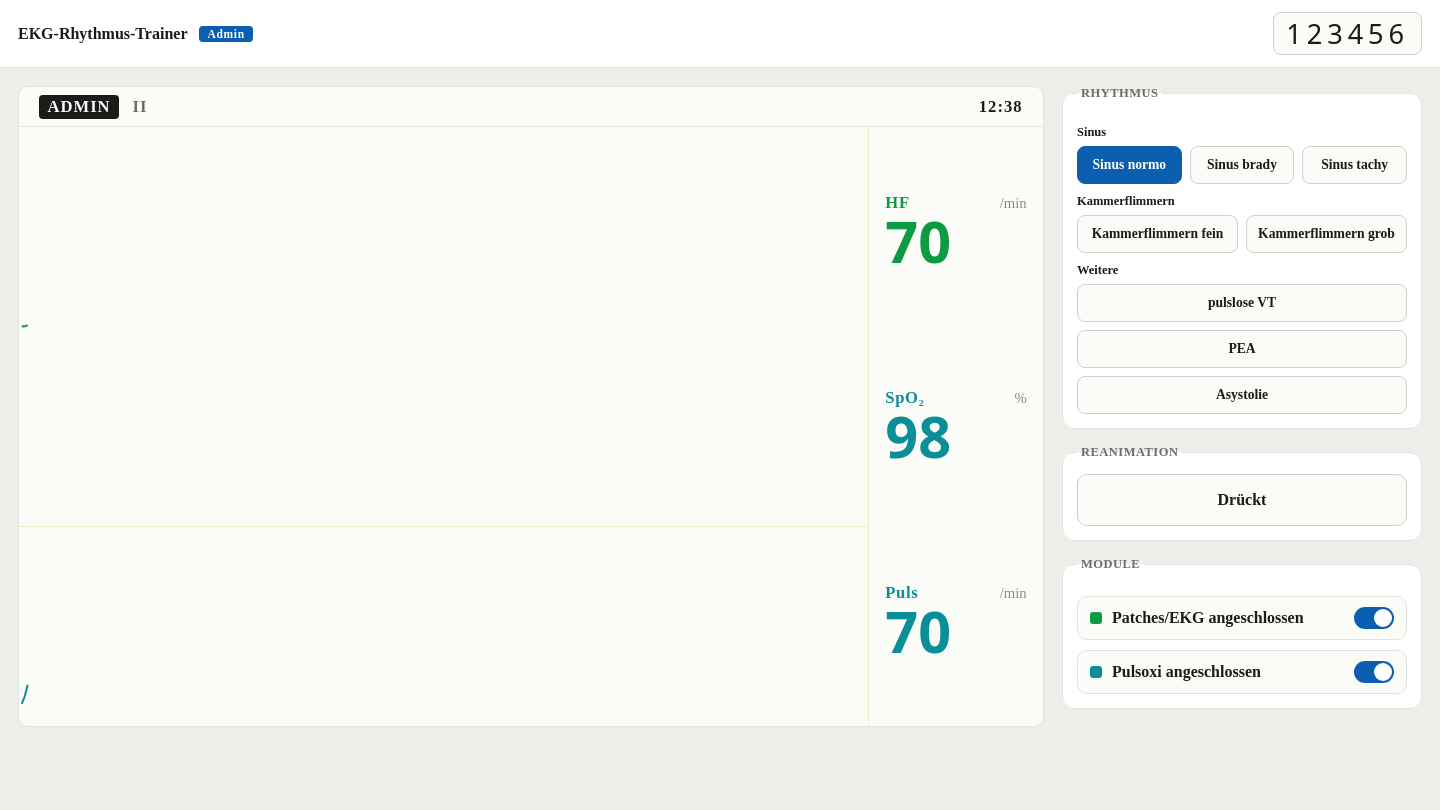
Test case: AdminView › surfaces an error when a command is refused
Click the button "pulslose VT": [1242, 303] box x1=1077 y1=284 x2=1407 y2=322
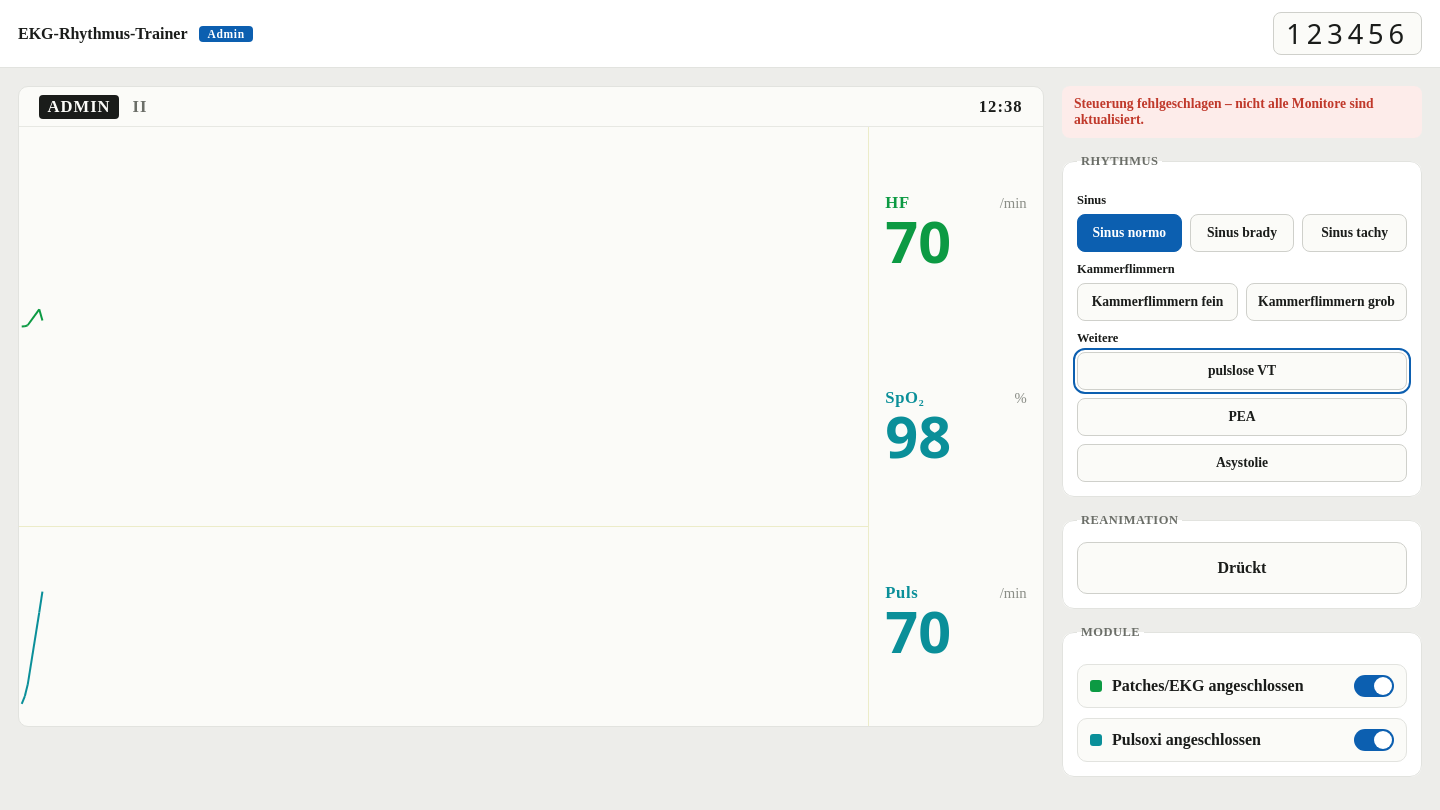
Now the message shows "fehlgeschlagen", box x1=1074 y1=96 x2=1374 y2=127
